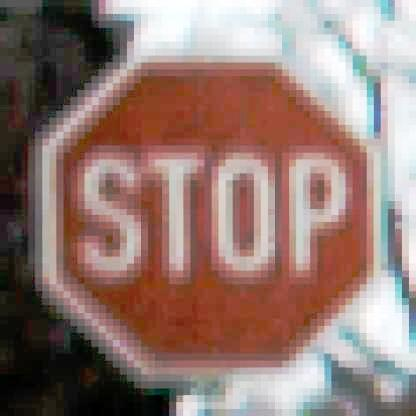Stop Sign: (31, 46, 391, 390)
